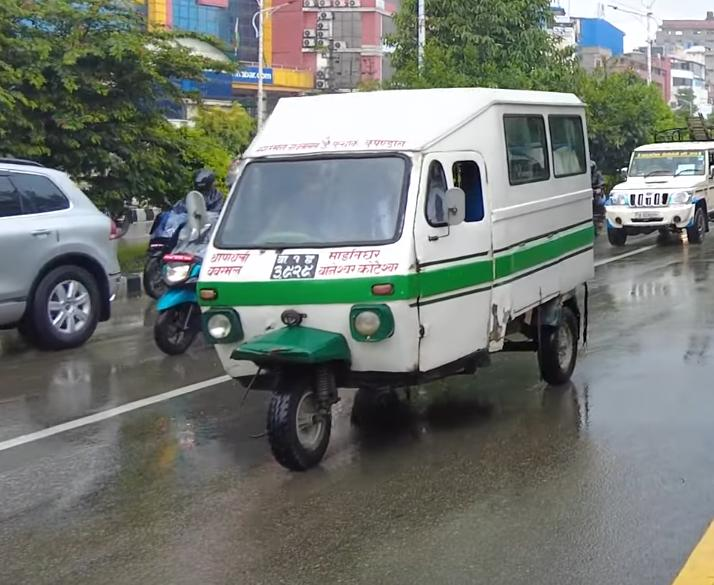car: (0, 158, 129, 349)
tempo: (189, 76, 606, 479)
transport_vehicle: (608, 122, 714, 242)
